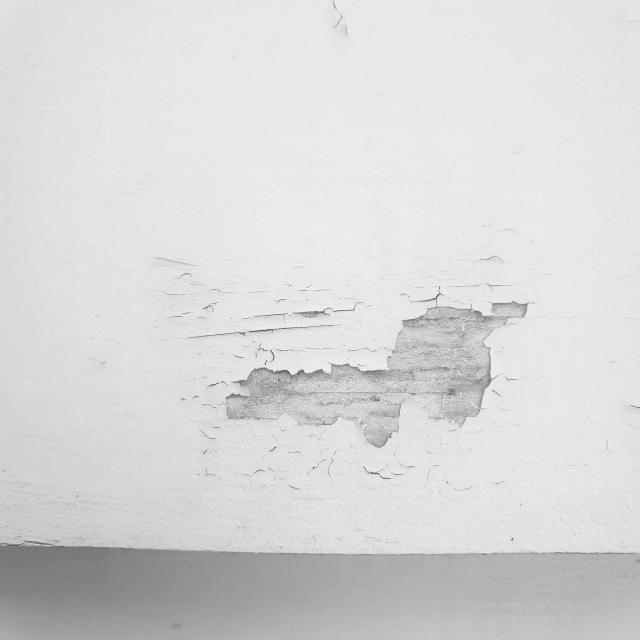peeling paint: (165, 216, 538, 509), (306, 0, 365, 59)
